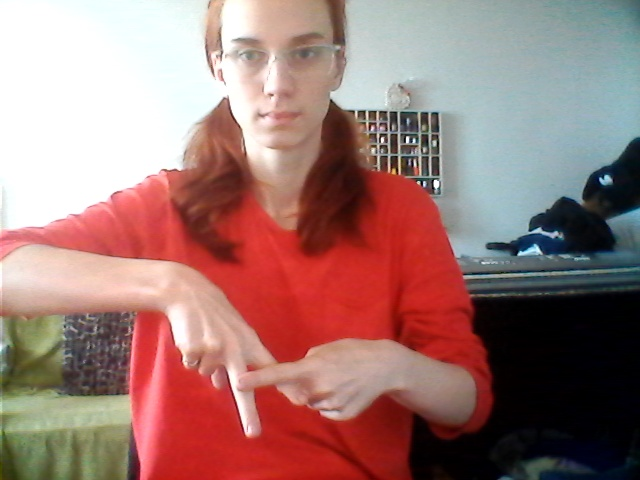a: (170, 331, 351, 445)
